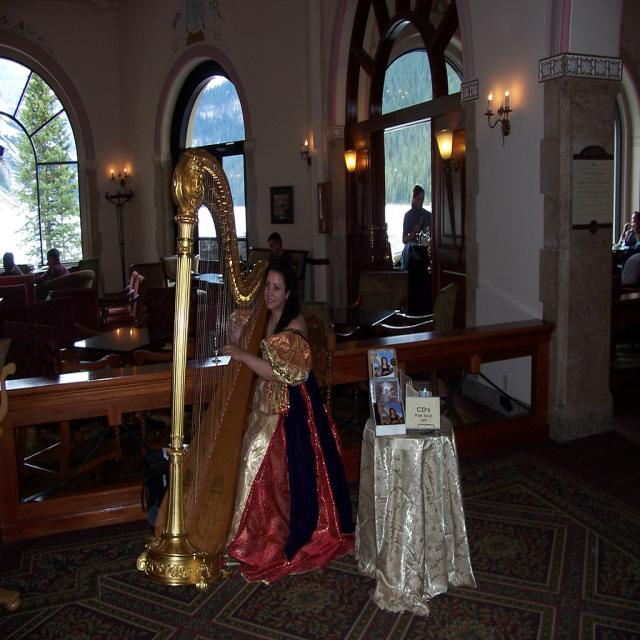harp: (132, 146, 277, 592)
